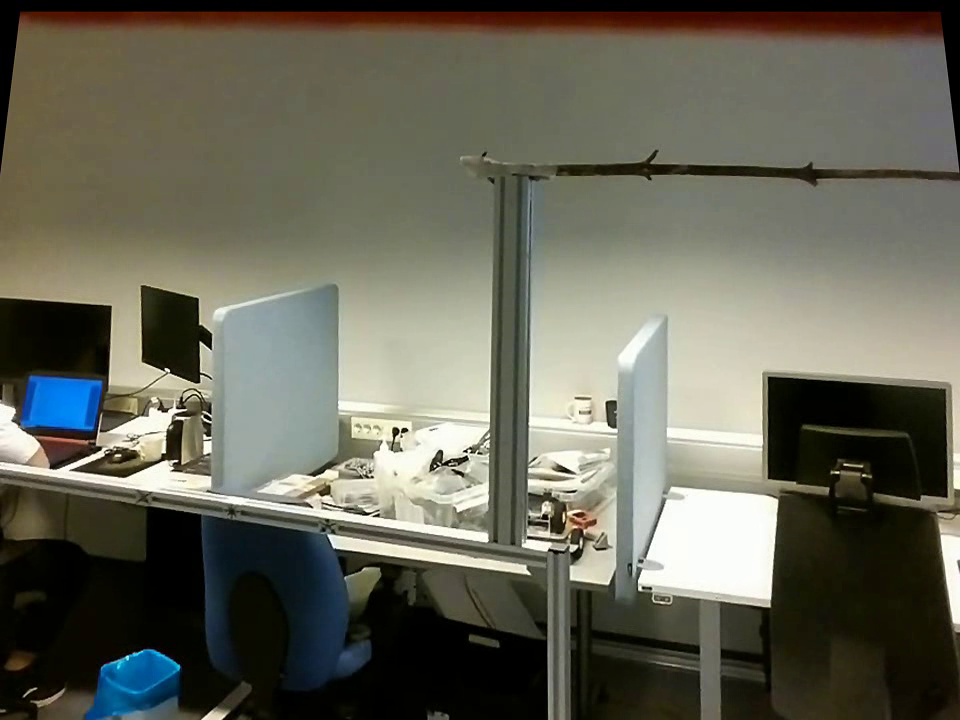aluminum_frame: (2, 453, 547, 568), (484, 180, 534, 546), (539, 539, 576, 716)
branch: (554, 143, 953, 195)
